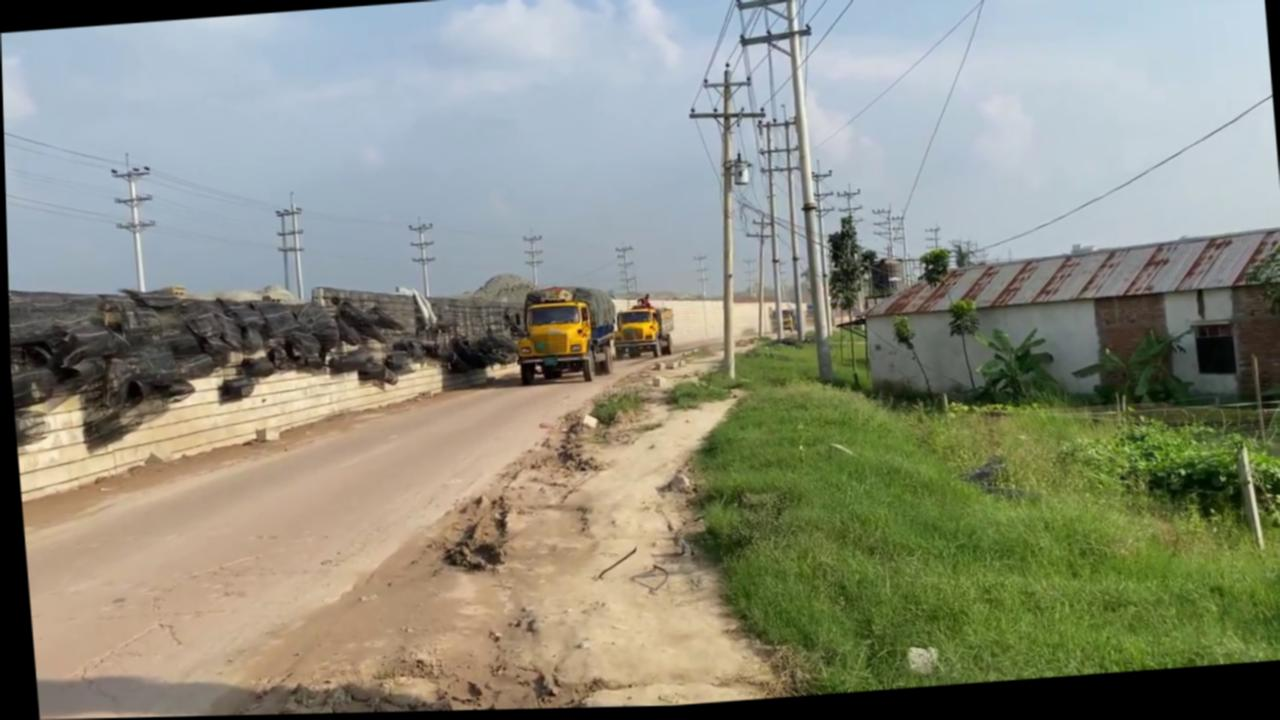Pole: (732, 0, 837, 389), (684, 64, 780, 386), (780, 0, 834, 387)
Rickshaw: (288, 329, 790, 715)
Traffic-sign: (818, 215, 871, 318), (941, 300, 983, 396), (914, 250, 949, 292)
Tree: (499, 283, 618, 390), (606, 296, 674, 364)
Upstairs: (6, 253, 527, 500)
